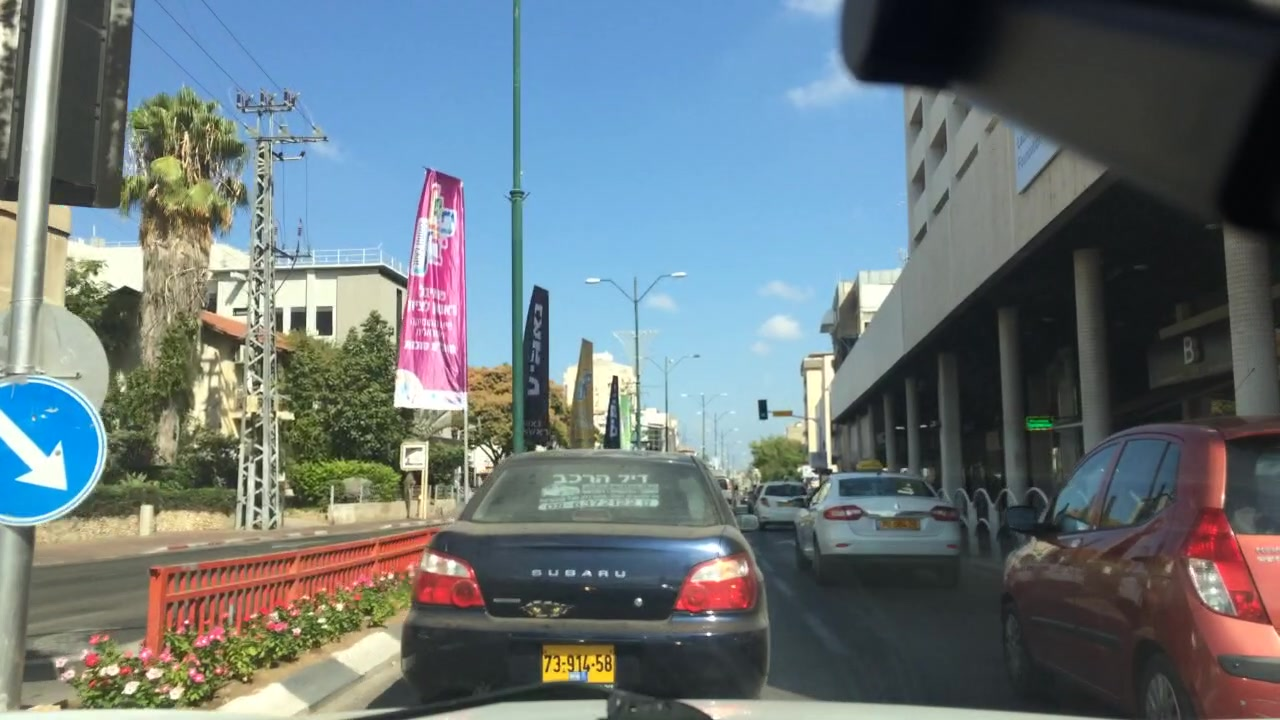licence: (535, 639, 616, 688)
